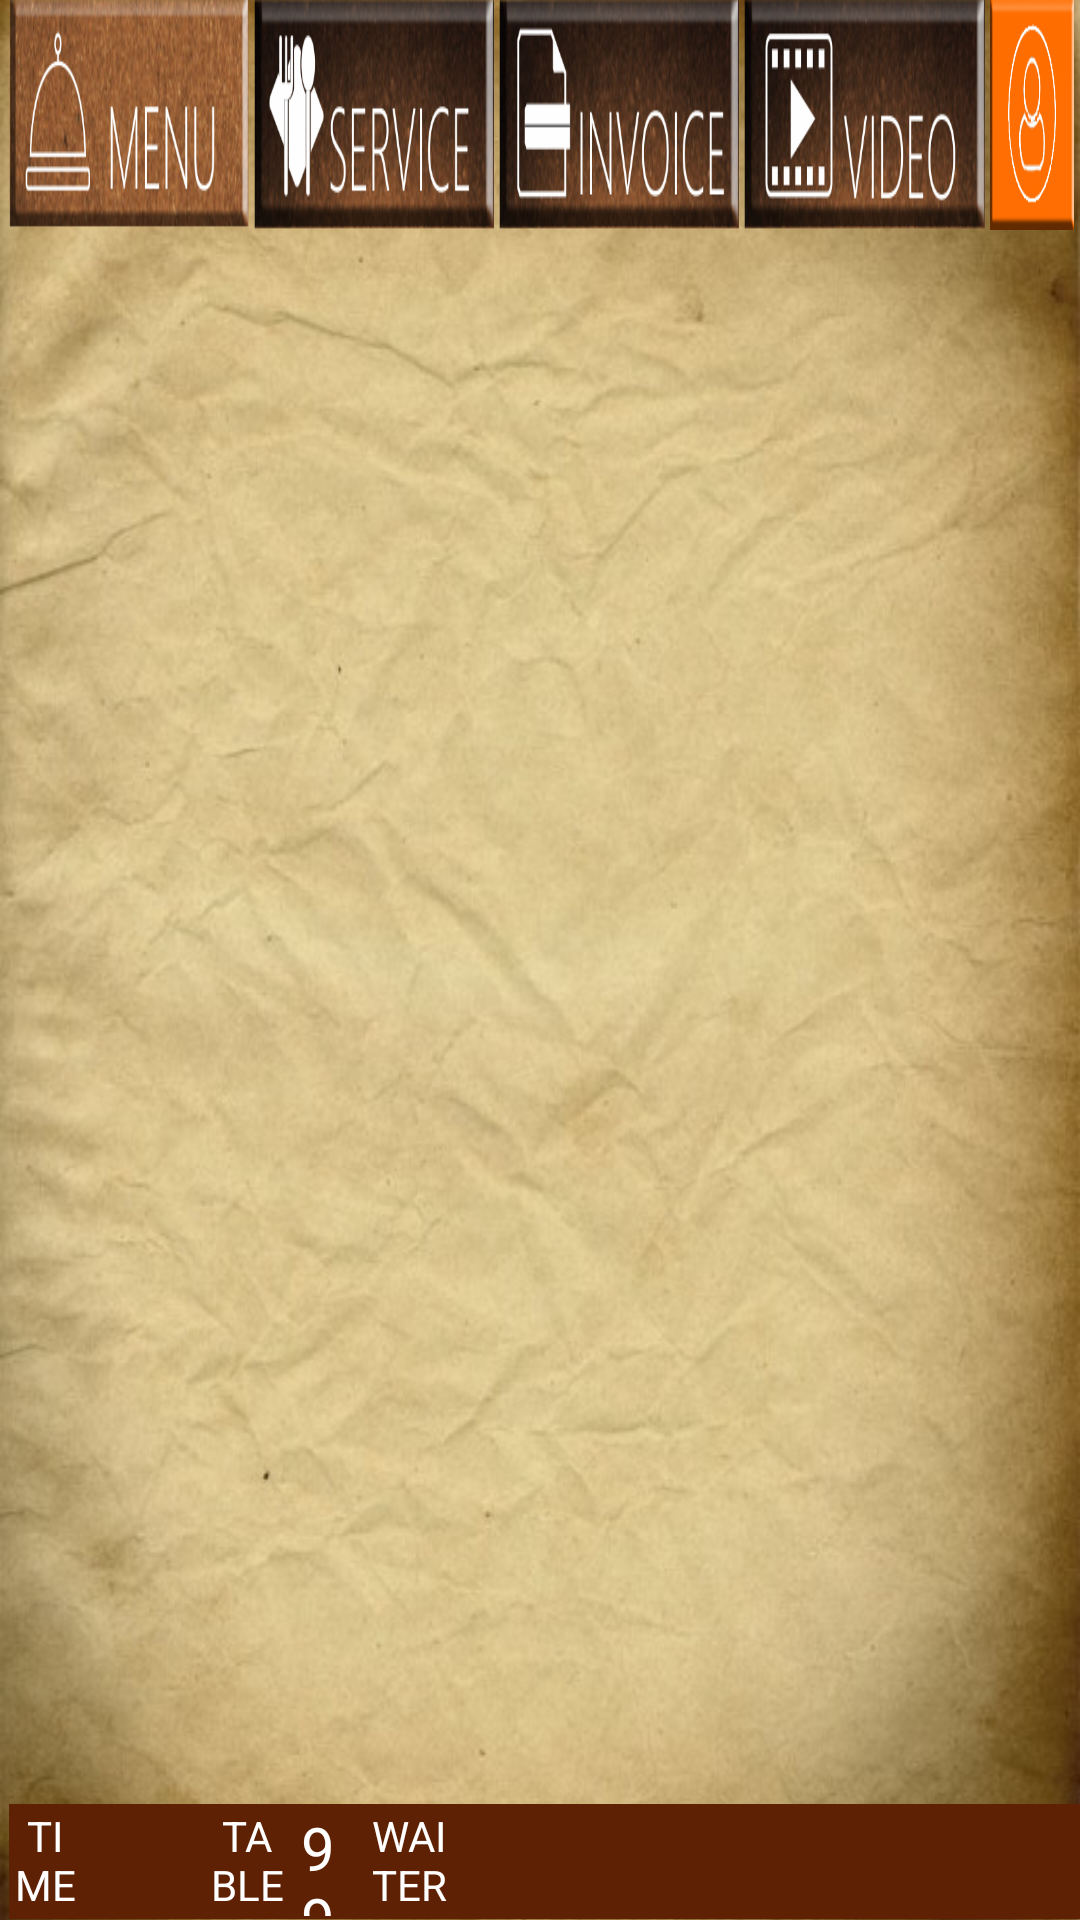

Named icons in this screenshot (1080x1920) and their centers, (x=x, y=y):
admin: (x=1032, y=115)
